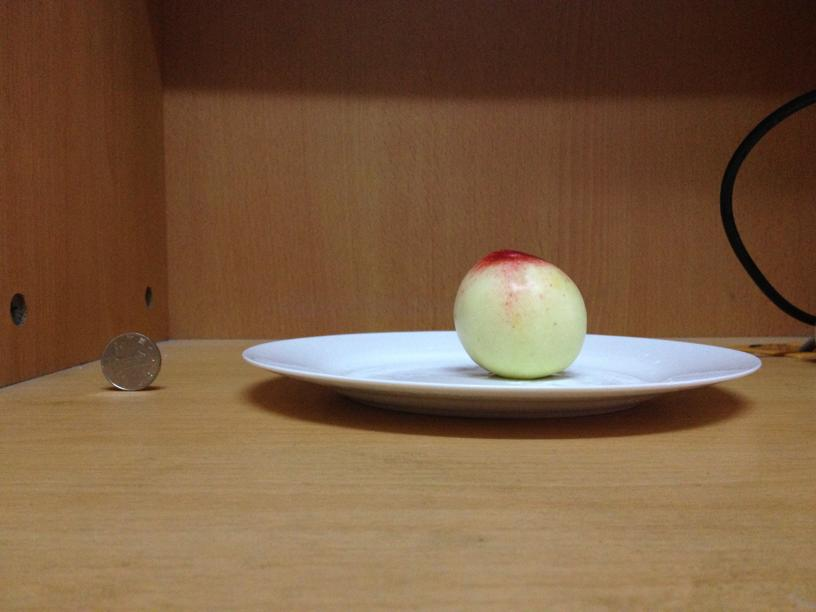coin: (95, 331, 159, 392)
peach: (451, 251, 585, 377)
